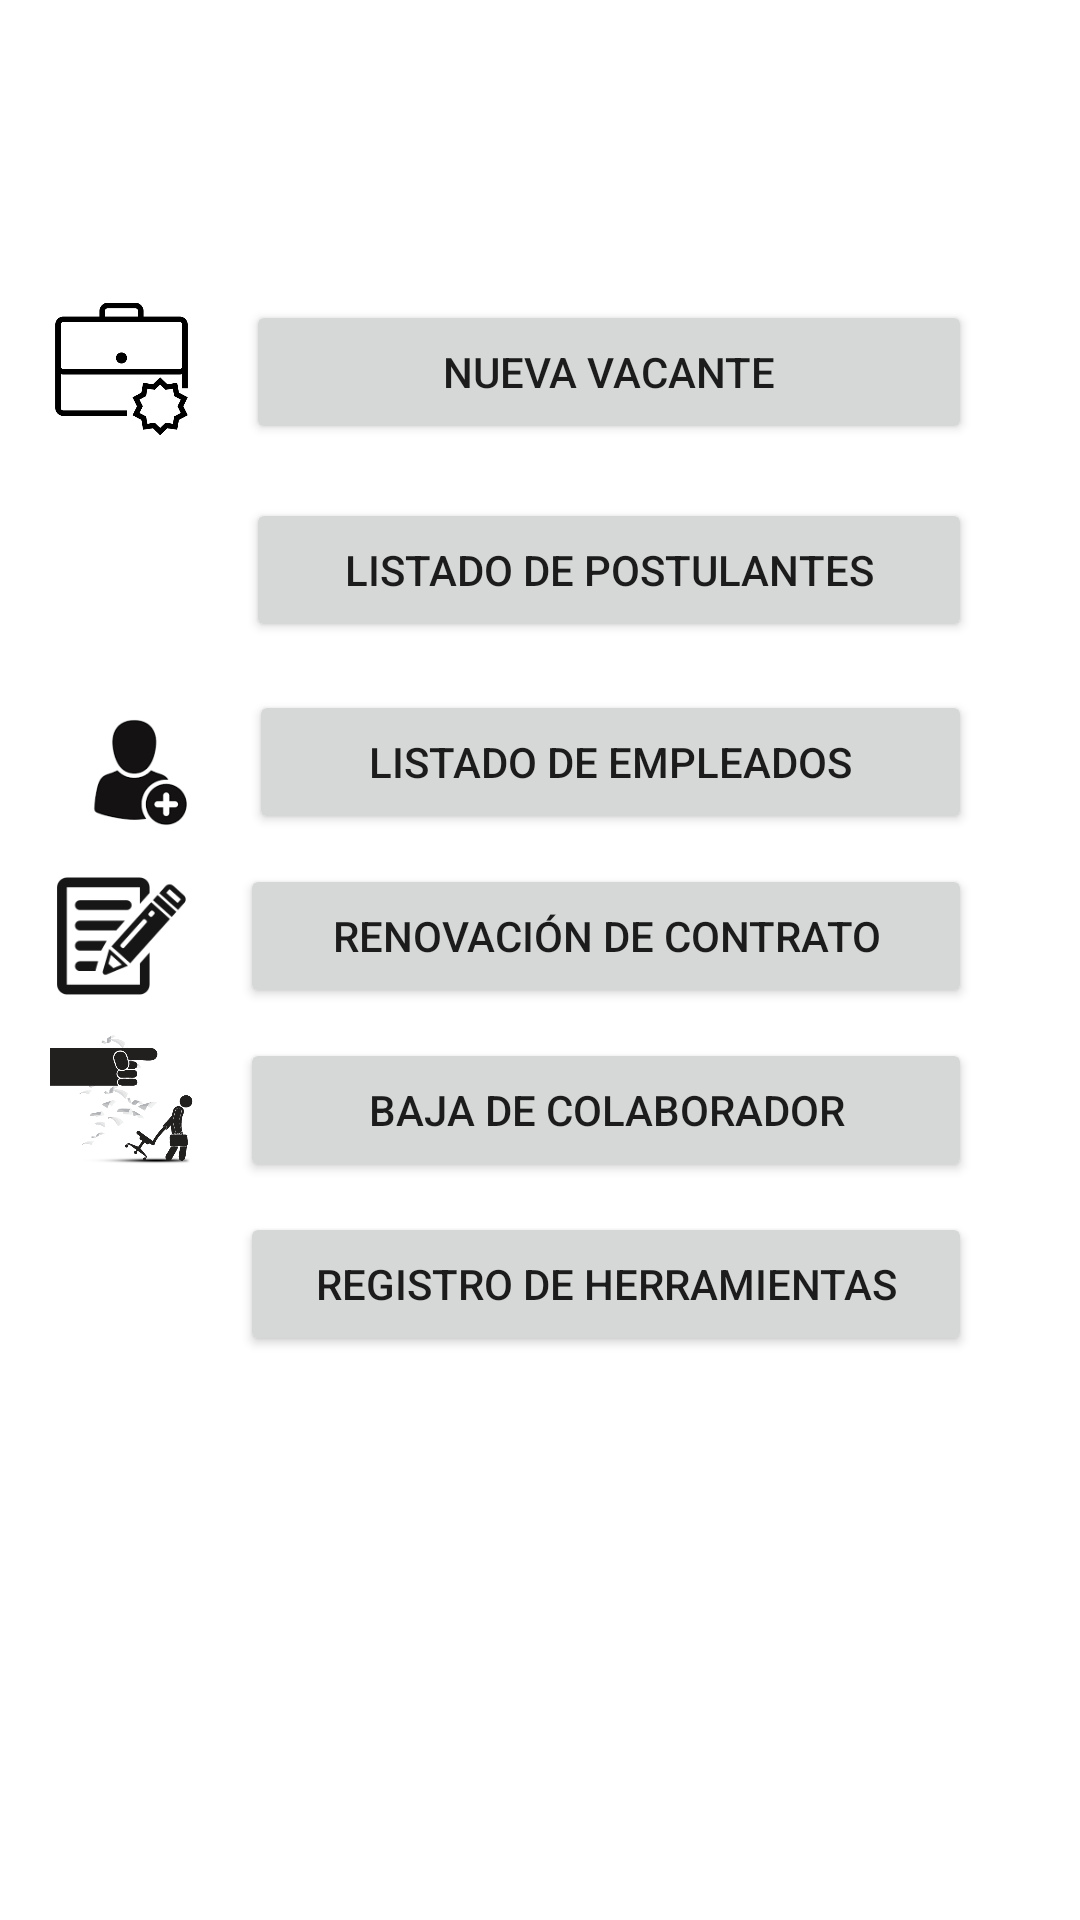

Named icons in this screenshot (1080 × 1920) and their bounding boxes, (x1, y1, x2, y2):
renovacion: (57, 877, 186, 995)
